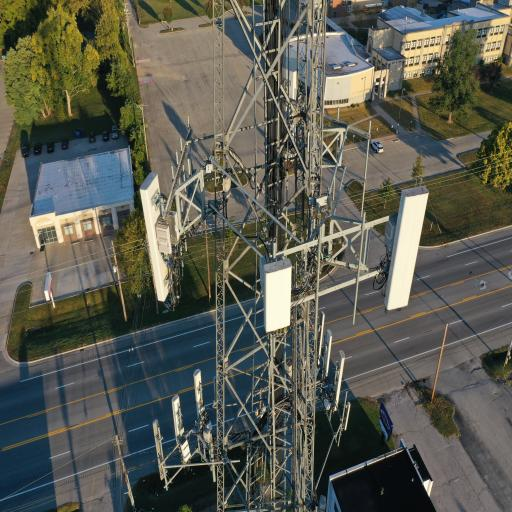supporting_tower: (132, 0, 451, 512)
